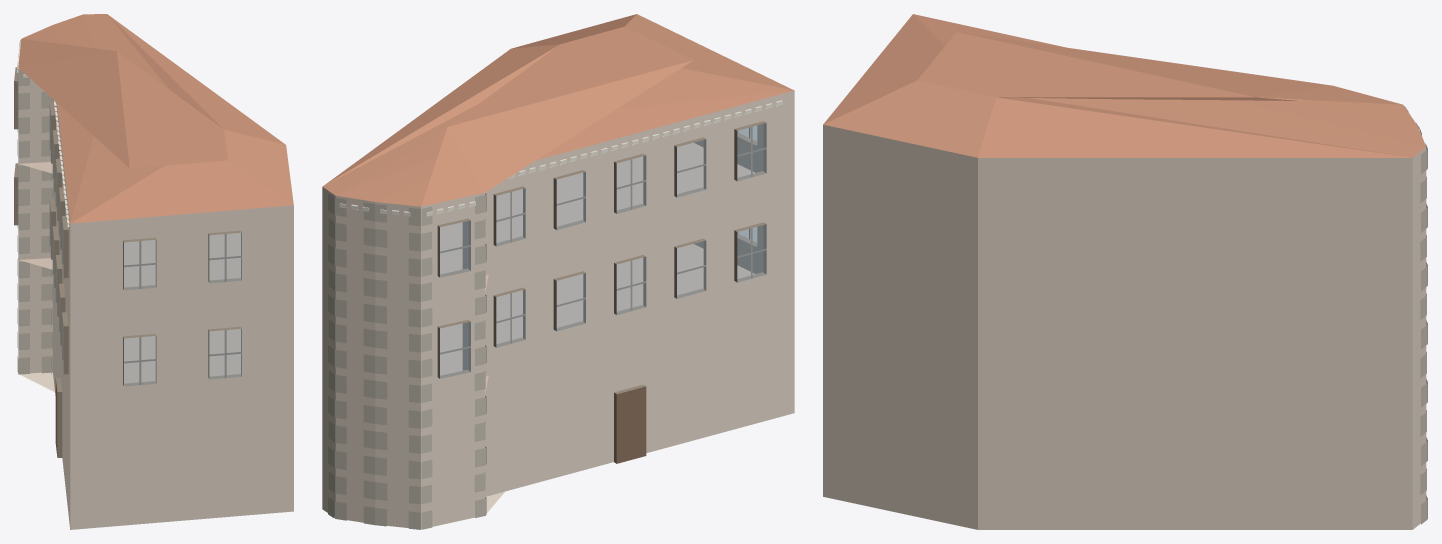
File: W-34-36-FIRIN.w34_main_bakery.glb
The picture shows the model from 3 angles, left to right: view 1: azimuth 30°, elevation 25°; view 2: azimuth 150°, elevation 25°; view 3: azimuth 270°, elevation 25°; orthographic projection. The views are drawn at different scales.
Parts seen in each view (by area): view 1: W-34-36-FIRIN.w34_main_bakery; view 2: W-34-36-FIRIN.w34_main_bakery; view 3: W-34-36-FIRIN.w34_main_bakery.
Part boxes in pixels (x1=…): W-34-36-FIRIN.w34_main_bakery: x1=14, y1=14, x2=293, y2=529; W-34-36-FIRIN.w34_main_bakery: x1=322, y1=14, x2=794, y2=529; W-34-36-FIRIN.w34_main_bakery: x1=823, y1=14, x2=1427, y2=529.
Size of the model in its own units: 8.46 by 10.97 by 15.03.
